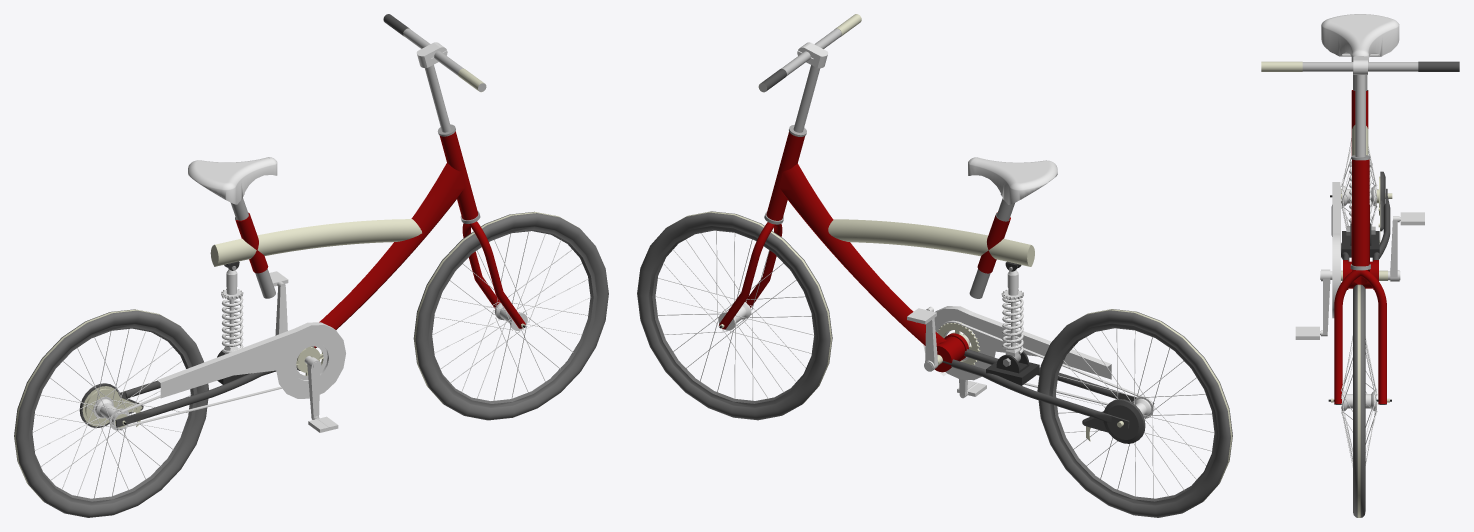
3 renders of one model, left to right at view 1: azimuth 30°, elevation 25°; view 2: azimuth 150°, elevation 25°; view 3: azimuth 270°, elevation 25°, orthographic. The views are drawn at different scales.
Parts seen in each view (by area): view 1: Group_030, Group_037, Group_002, Group_022, Group_026, Group_003, Group_031, Group_020, Group_025, Group_023, 组件#2_001, Group_019 (+8 smaller); view 2: Group_030, Group_037, Group_022, Group_026, Group_002, Group_020, Group_003, Group_031, Group_019, Group_025, Group_023, 组件#1_001 (+9 smaller); view 3: Group_031, Group_030, Group_003, Group_025, Group_034, Group_002, Group_008, Group_005, Group_020, Group_009, 组件#2_001, 组件#1_001 (+8 smaller).
Part boxes in pixels (x1=…): Group_030: x1=413, y1=211, x2=608, y2=420; Group_037: x1=14, y1=309, x2=208, y2=517; Group_002: x1=157, y1=322, x2=345, y2=398; Group_022: x1=210, y1=219, x2=421, y2=266; Group_026: x1=314, y1=163, x2=464, y2=348; Group_003: x1=188, y1=157, x2=277, y2=204; Group_031: x1=424, y1=65, x2=525, y2=328; Group_020: x1=115, y1=370, x2=276, y2=427; Group_025: x1=437, y1=124, x2=480, y2=223; Group_023: x1=230, y1=198, x2=275, y2=298; 组件#2_001: x1=434, y1=233, x2=590, y2=401; Group_019: x1=79, y1=383, x2=143, y2=428; Group_030: x1=637, y1=211, x2=832, y2=420; Group_037: x1=1037, y1=309, x2=1232, y2=517; Group_022: x1=828, y1=219, x2=1034, y2=266; Group_026: x1=779, y1=163, x2=946, y2=345; Group_002: x1=923, y1=306, x2=1111, y2=380; Group_020: x1=942, y1=349, x2=1154, y2=428; Group_003: x1=968, y1=157, x2=1057, y2=204; Group_031: x1=719, y1=65, x2=820, y2=329; Group_019: x1=1082, y1=399, x2=1145, y2=443; Group_025: x1=764, y1=125, x2=806, y2=224; Group_023: x1=969, y1=198, x2=1014, y2=298; 组件#1_001: x1=657, y1=230, x2=814, y2=398; Group_031: x1=1334, y1=75, x2=1386, y2=404; Group_030: x1=1353, y1=284, x2=1365, y2=517; Group_003: x1=1321, y1=14, x2=1399, y2=61; Group_025: x1=1350, y1=155, x2=1370, y2=270; Group_034: x1=1261, y1=61, x2=1459, y2=71; Group_002: x1=1332, y1=182, x2=1340, y2=318; Group_008: x1=1388, y1=212, x2=1424, y2=281; Group_005: x1=1295, y1=269, x2=1332, y2=339; Group_020: x1=1331, y1=188, x2=1390, y2=261; Group_009: x1=1342, y1=223, x2=1379, y2=257; 组件#2_001: x1=1341, y1=336, x2=1352, y2=466; 组件#1_001: x1=1365, y1=337, x2=1377, y2=465.
Bounding box in the file's own units: 512 × 322 × 141.
